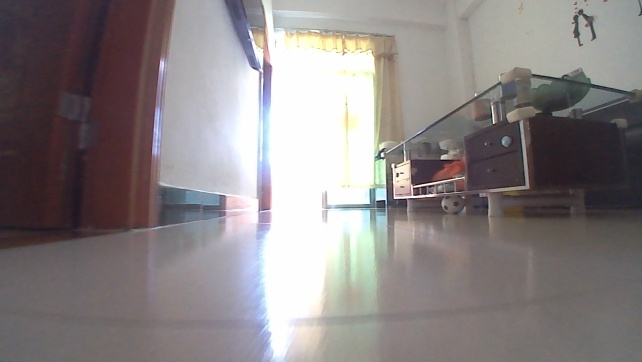tea_table: (373, 62, 641, 219)
